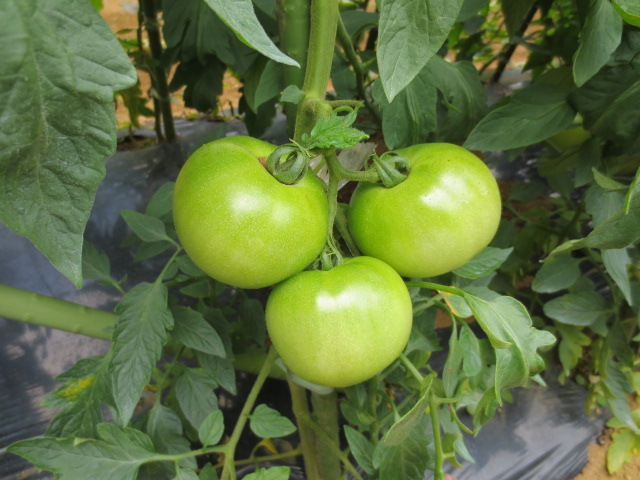stems: (273, 141, 322, 176), (338, 164, 394, 183), (321, 245, 337, 271)
tomato: (167, 134, 333, 288), (343, 141, 502, 278), (262, 256, 414, 389)
